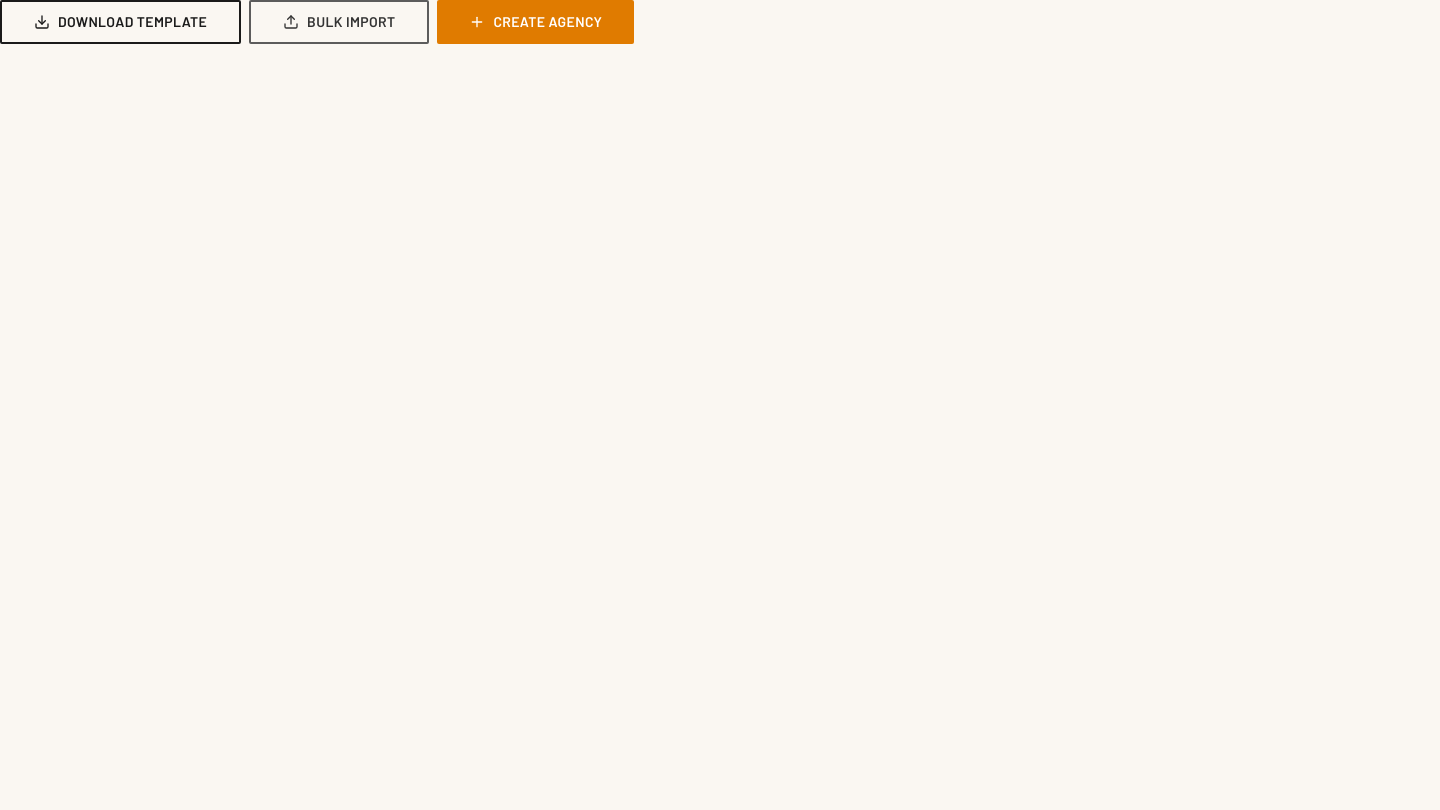
it: AdminAgenciesActions › opens AgencyFormModal when Create Agency button is clicked
The image size is (1440, 810).
What coordinates should you click on to do the following:
click the button with test id "create-agency-button"
I would click on:
 (536, 22)
Its box is [437,0,634,44].
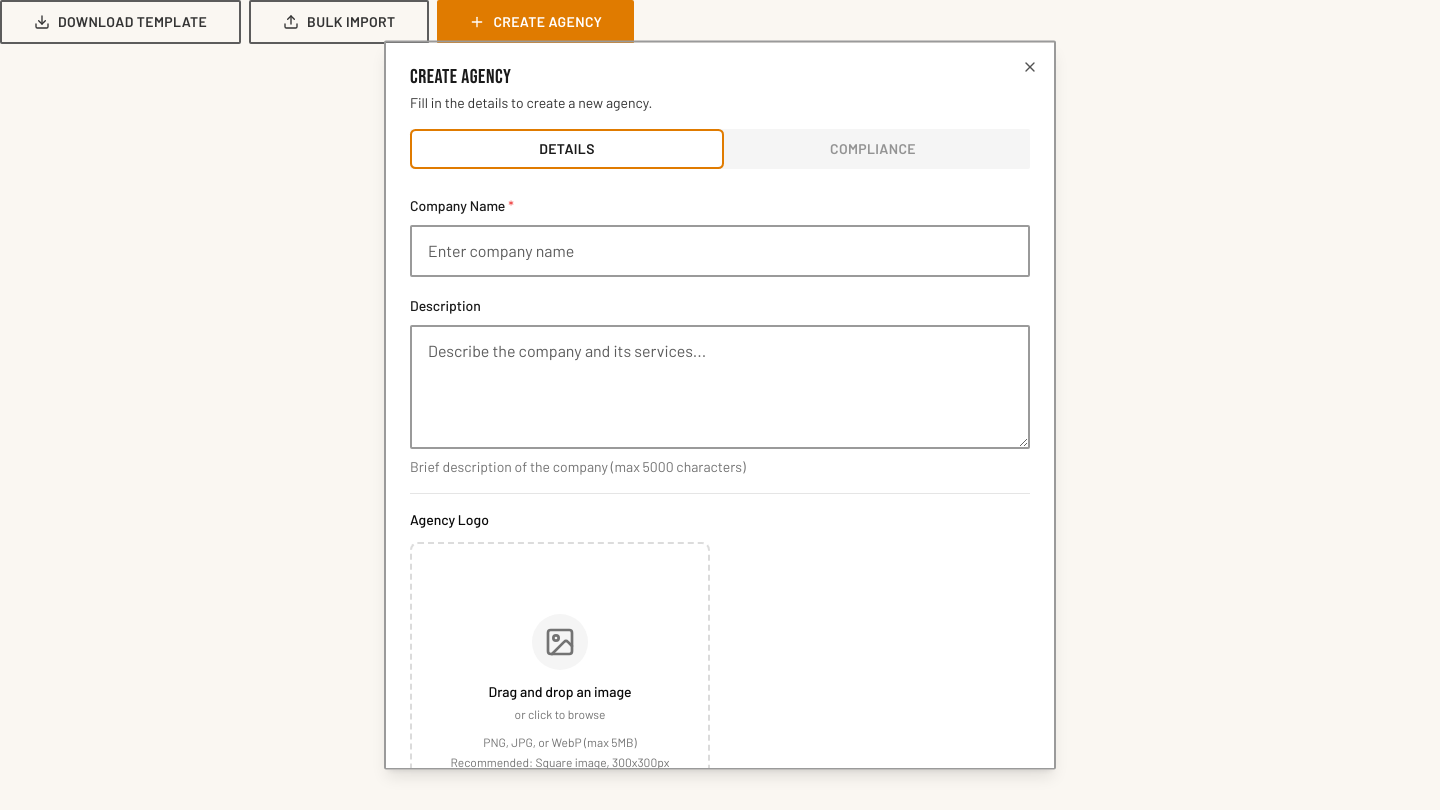
Now the dialog with test id "agency-form-modal" is shown, box [384,40,1056,770]
